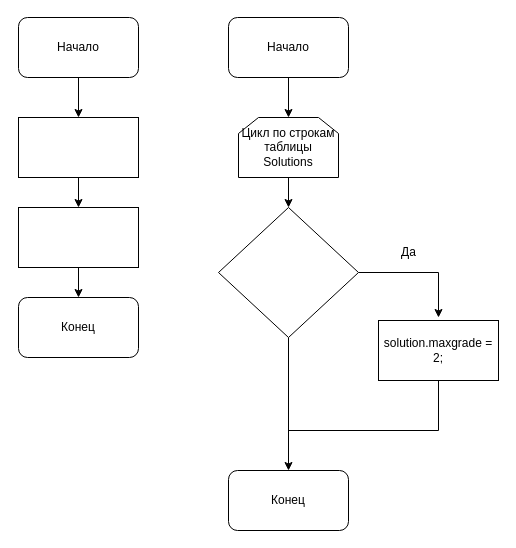
Image size: 516x548. Some labels were removed from this diagram. Here are the shapes that lost their labels. From the top down, the centre of each, then its label:
pixel 78 147: Записать в new_solution загружаемое решение
pixel 78 237: new_solution.sendtime = Now()
pixel 288 272: solutions.sendtime > taskpack.duetime?
